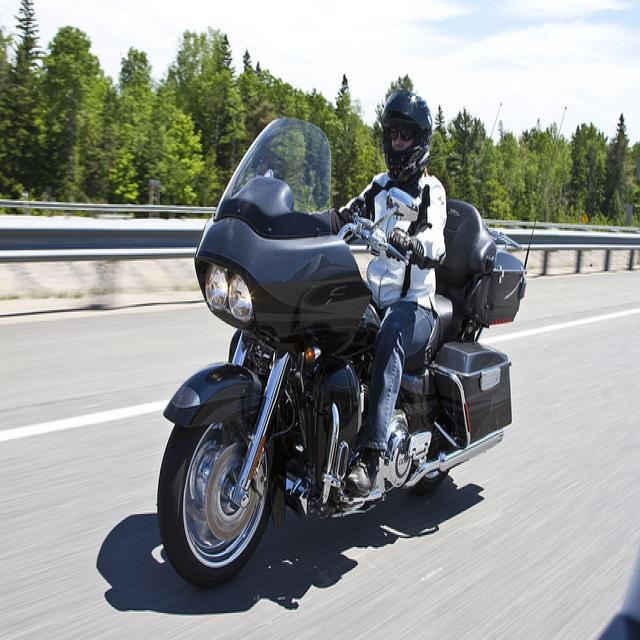motor: (157, 98, 571, 596)
